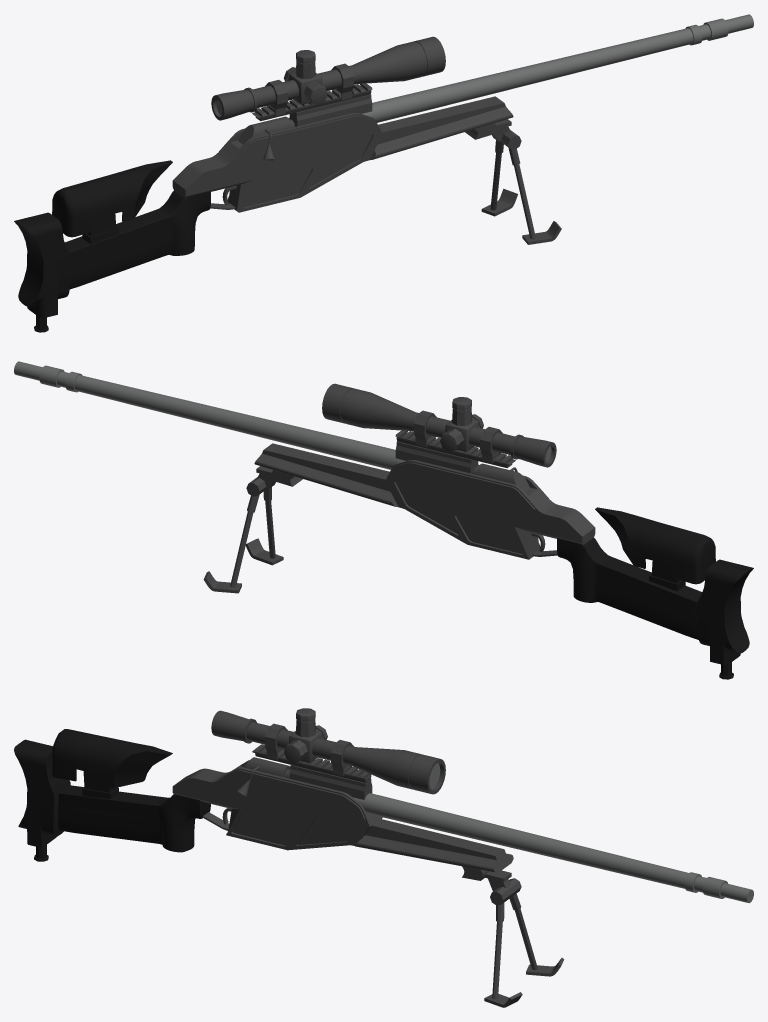
Rendered from Blaser_R93_Mesh.fbx.
The picture shows the model from 3 angles, top to bottom: view 1: azimuth 30°, elevation 25°; view 2: azimuth 150°, elevation 25°; view 3: azimuth 330°, elevation 25°; orthographic projection.
Parts seen in each view (by area): view 1: Blaser_R93; view 2: Blaser_R93; view 3: Blaser_R93.
Boxes of the visible parts, x1,y1,x2,y2 form: Blaser_R93: (14, 14, 753, 332); Blaser_R93: (14, 361, 753, 679); Blaser_R93: (14, 708, 753, 1007).
Size of the model in its own units: 1.08 by 0.3164 by 0.1402.
